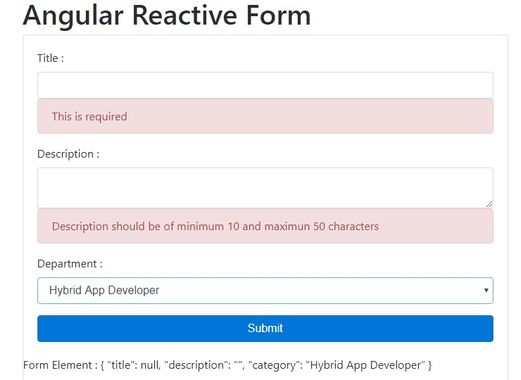error_message: (50, 220, 381, 233), (51, 109, 130, 125)
